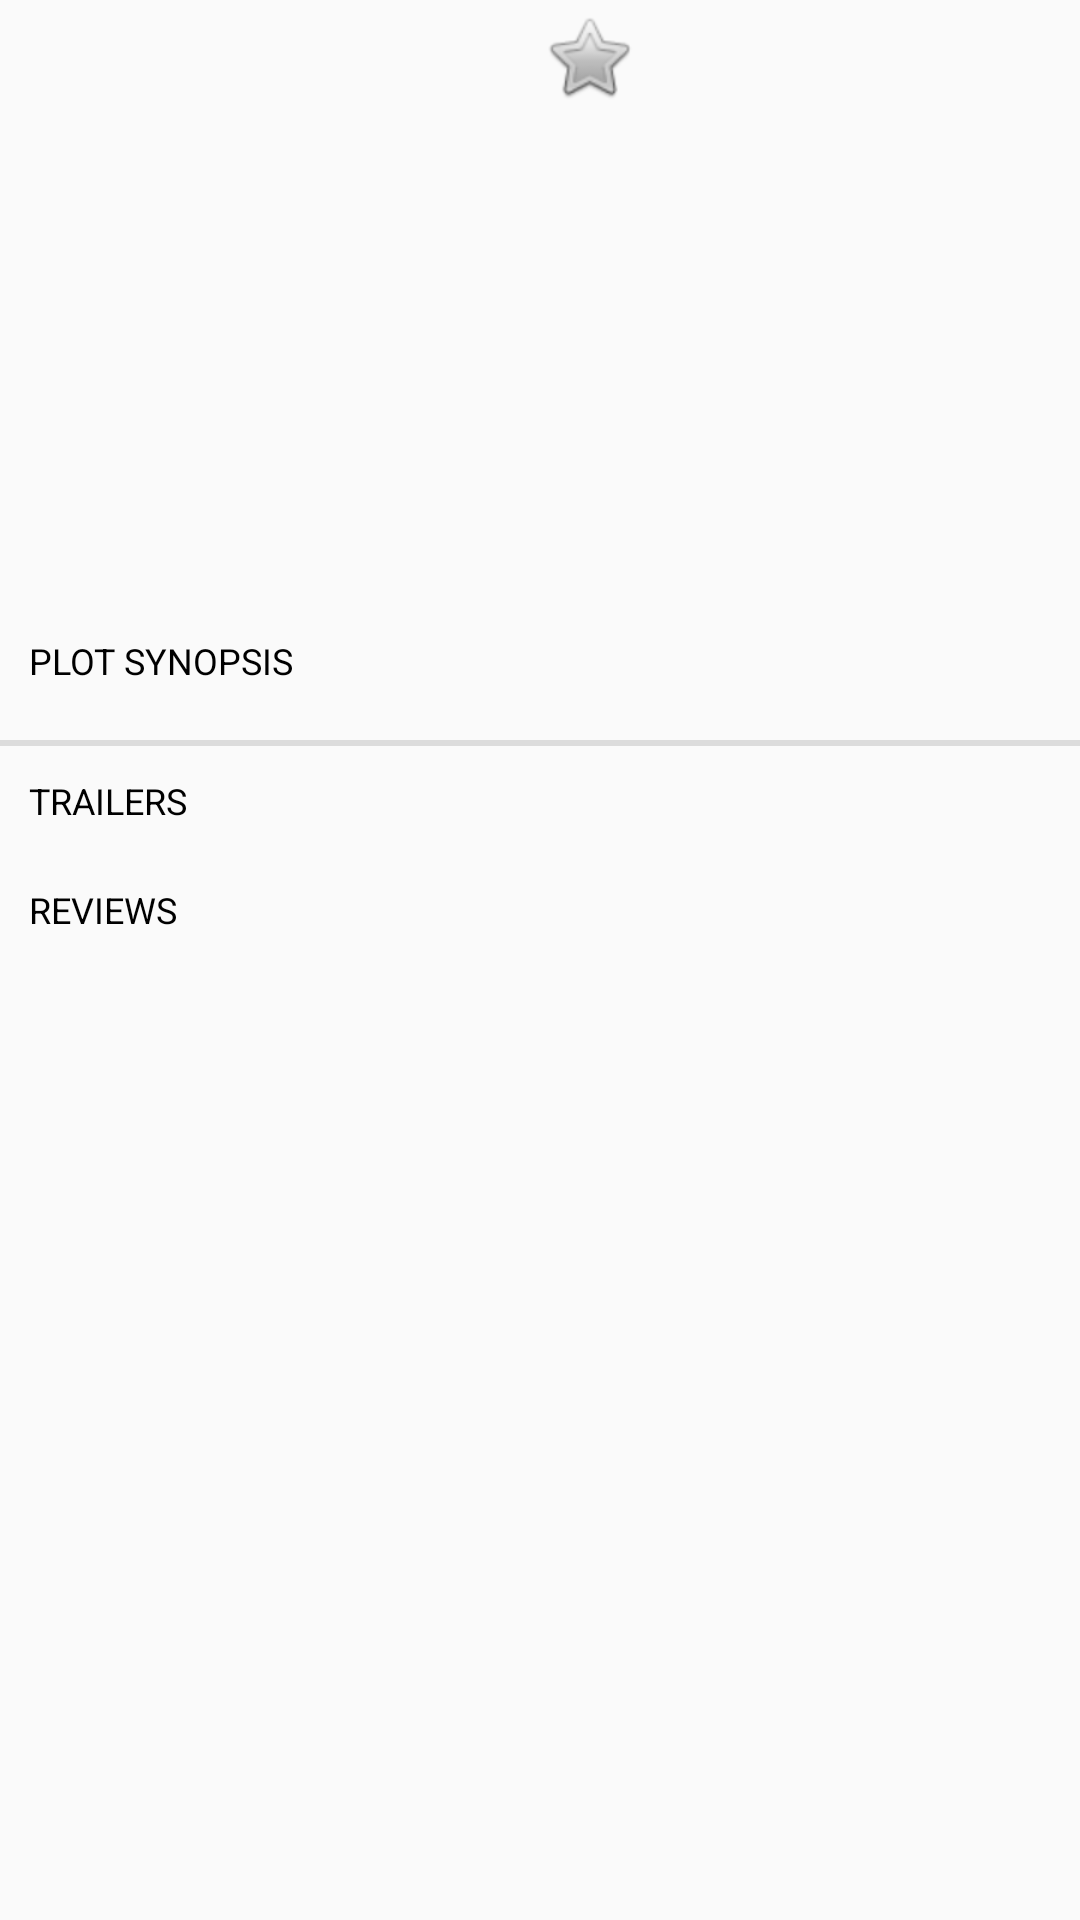

Icon click points for this 1080 × 1920 phone screenshot, format point (x, y):
star: point (590, 58)
